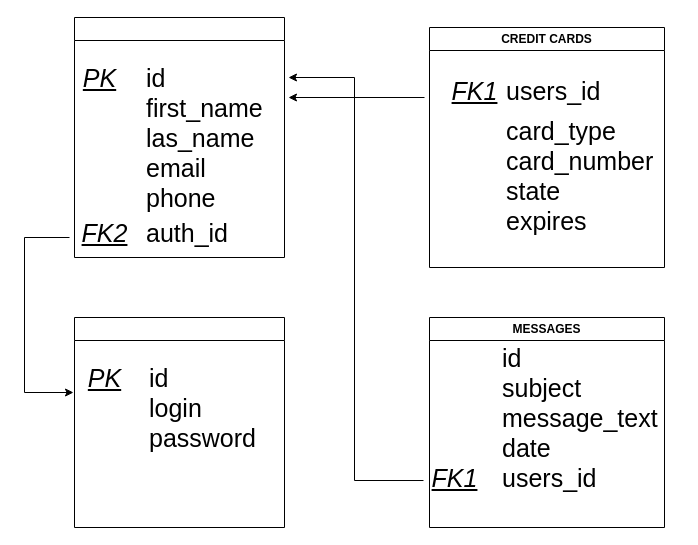
Image size: 698x545. Some labels were removed from this diagram. Each missing label, with the box of its shape:
AUTHORIZATION: (74, 316, 284, 528)
USERS: (74, 16, 284, 258)
